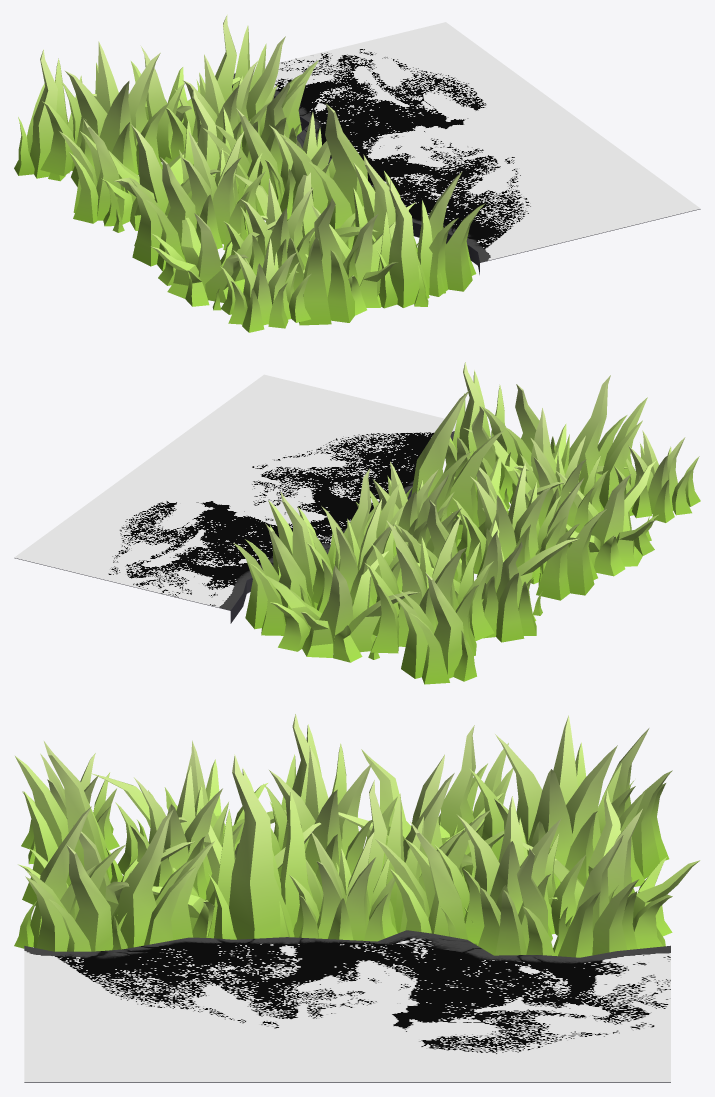
File: Sol Yesil.fbx
3 views of the same model, one above another, from view 1: azimuth 30°, elevation 25°; view 2: azimuth 150°, elevation 25°; view 3: azimuth 270°, elevation 25° (orthographic). The views are drawn at different scales.
Parts seen in each view (by area): view 1: solyesil; view 2: solyesil; view 3: solyesil.
Boxes of the visible parts, x1,y1,x2,y2 form: solyesil: (14,14,700,332); solyesil: (14,362,700,684); solyesil: (14,714,700,1082).
Bounding box in the file's own units: 215 × 62.41 × 212.
